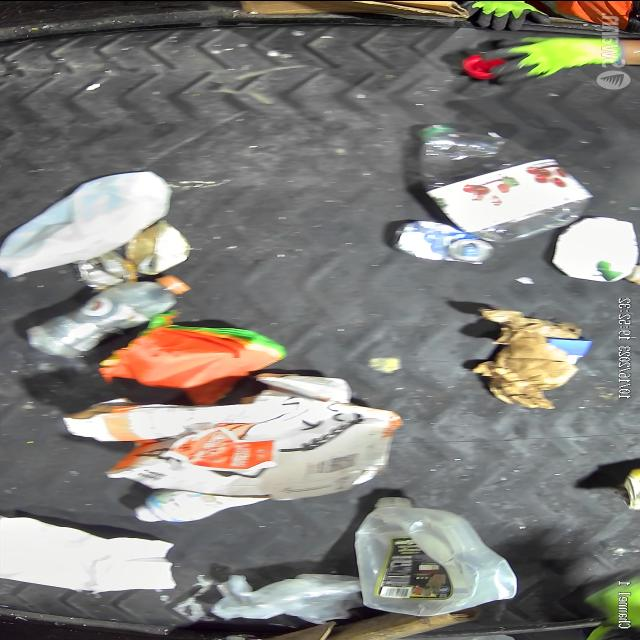can: (386, 216, 501, 266), (72, 252, 144, 290)
milk_jug: (0, 168, 178, 273)
non_white_jug: (354, 496, 518, 613)
plastic_bottle: (404, 119, 596, 245), (24, 274, 200, 358)
